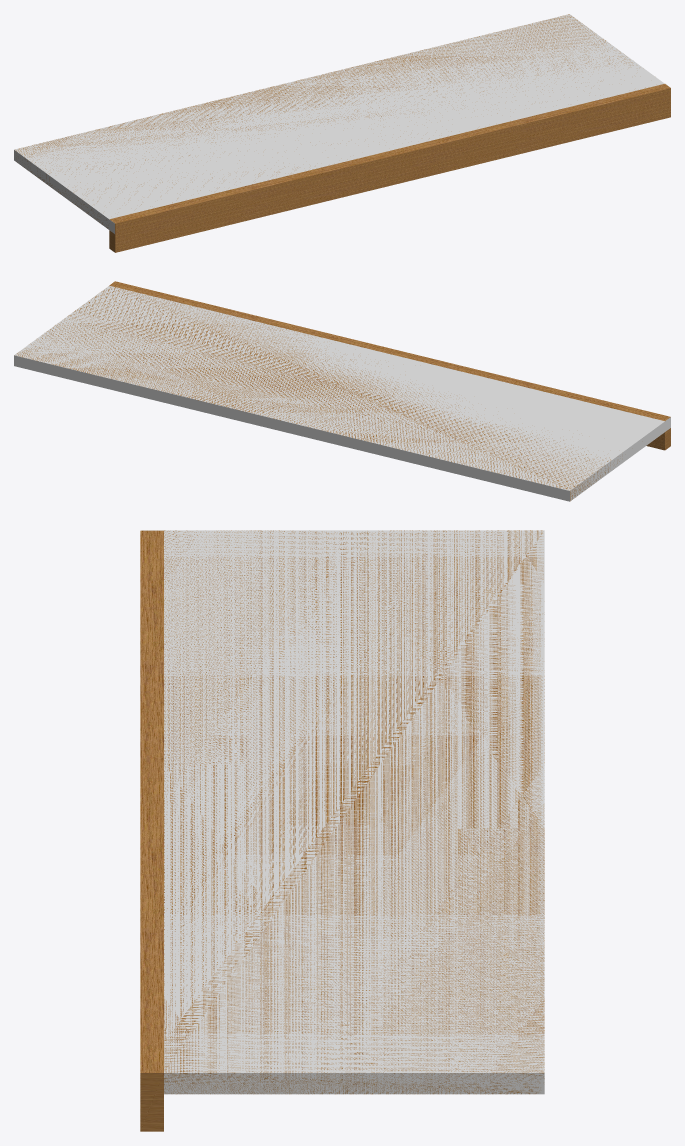
File: VCKC0030.glb
3 views of the same model, one above another, from view 1: azimuth 30°, elevation 25°; view 2: azimuth 150°, elevation 25°; view 3: azimuth 270°, elevation 25° (orthographic). The views are drawn at different scales.
Parts seen in each view (by area): view 1: _bb0, G-Difference.026; view 2: _bb0, G-Difference.026; view 3: _bb0, G-Difference.026.
Boxes of the visible parts, x1,y1,x2,y2 form: _bb0: [14, 14, 664, 233]; G-Difference.026: [15, 14, 670, 252]; _bb0: [14, 285, 670, 501]; G-Difference.026: [16, 281, 670, 501]; _bb0: [141, 530, 544, 1094]; G-Difference.026: [140, 530, 544, 1131].
Size of the model in its own units: 0.8122 by 0.0409 by 0.256.
Materials: 1 (1 with a texture image).
